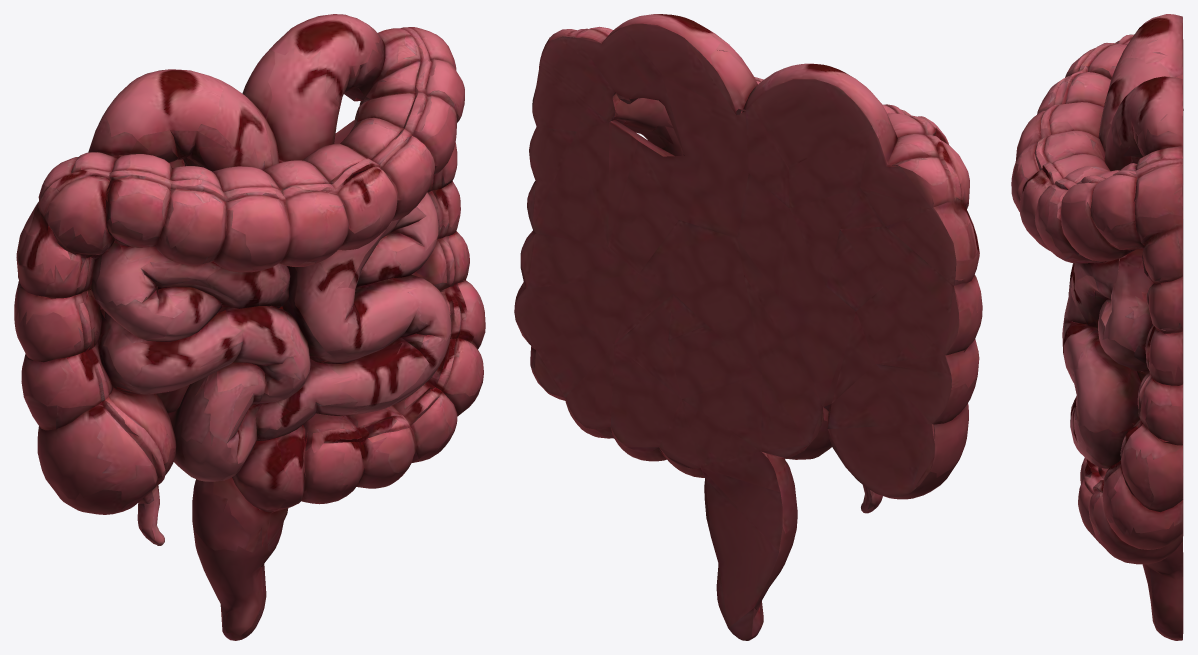
Rendered from intestines.glb.
3 views of the same model, side by side, from view 1: azimuth 30°, elevation 25°; view 2: azimuth 150°, elevation 25°; view 3: azimuth 270°, elevation 25° (orthographic).
Parts seen in each view (by area): view 1: mesh_node; view 2: mesh_node; view 3: mesh_node.
Boxes of the visible parts, x1,y1,x2,y2 form: mesh_node: (14,14,485,640); mesh_node: (514,14,982,640); mesh_node: (1011,14,1183,640).
Bounding box in the file's own units: 1.52 × 1.9 × 0.4973.
1 material, 1 textured.
